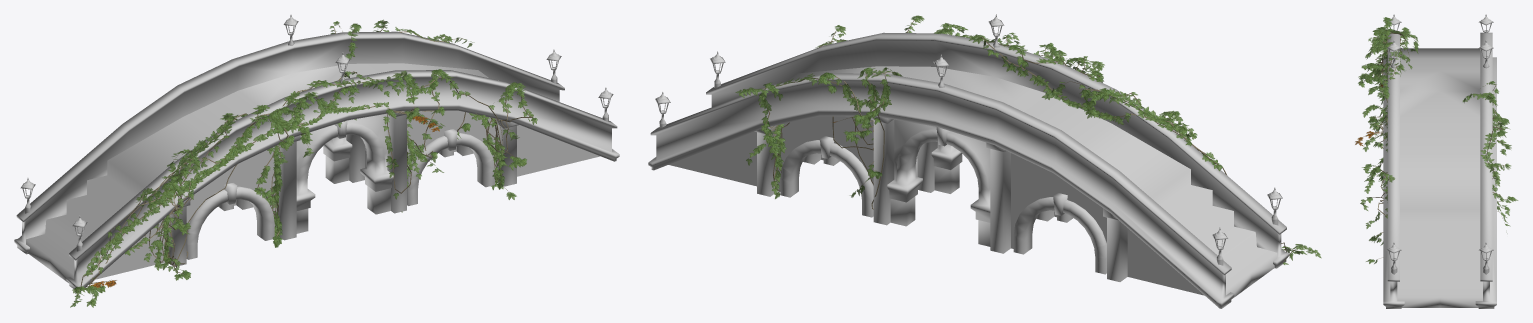
The picture shows the model from 3 angles, left to right: view 1: azimuth 30°, elevation 25°; view 2: azimuth 150°, elevation 25°; view 3: azimuth 270°, elevation 25°; orthographic projection. The views are drawn at different scales.
Parts seen in each view (by area): view 1: Lowpoly002, gwIvy001, gwIvy003, gwIvy002; view 2: Lowpoly002, gwIvy001, gwIvy002, gwIvy003; view 3: Lowpoly002, gwIvy003, gwIvy001, gwIvy002.
Part boxes in pixels (x1,y1,x2,y2): Lowpoly002: (14,14,619,290); gwIvy001: (70,71,400,307); gwIvy003: (289,69,537,212); gwIvy002: (329,19,474,58); Lowpoly002: (648,14,1289,308); gwIvy001: (960,32,1321,264); gwIvy002: (735,67,902,209); gwIvy003: (815,15,1080,70); Lowpoly002: (1383,14,1496,308); gwIvy003: (1355,43,1394,263); gwIvy001: (1358,17,1418,123); gwIvy002: (1462,81,1518,226).
Size of the model in its own units: 289 by 87.92 by 83.45.
